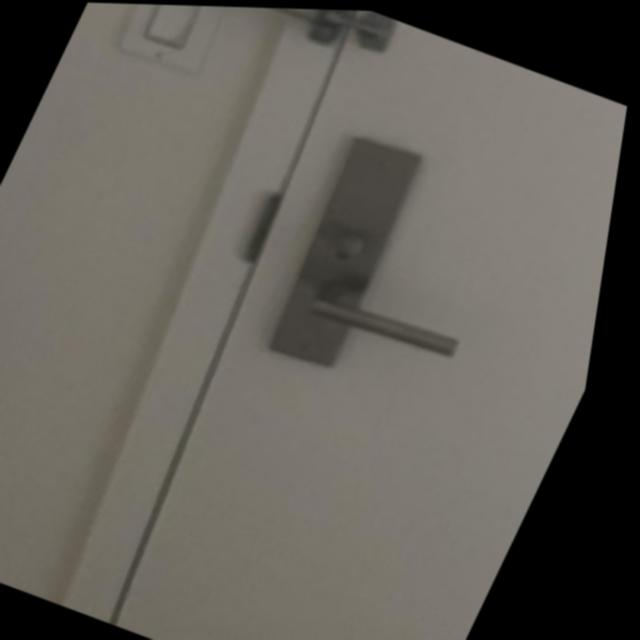door_handle: (249, 248, 501, 397)
